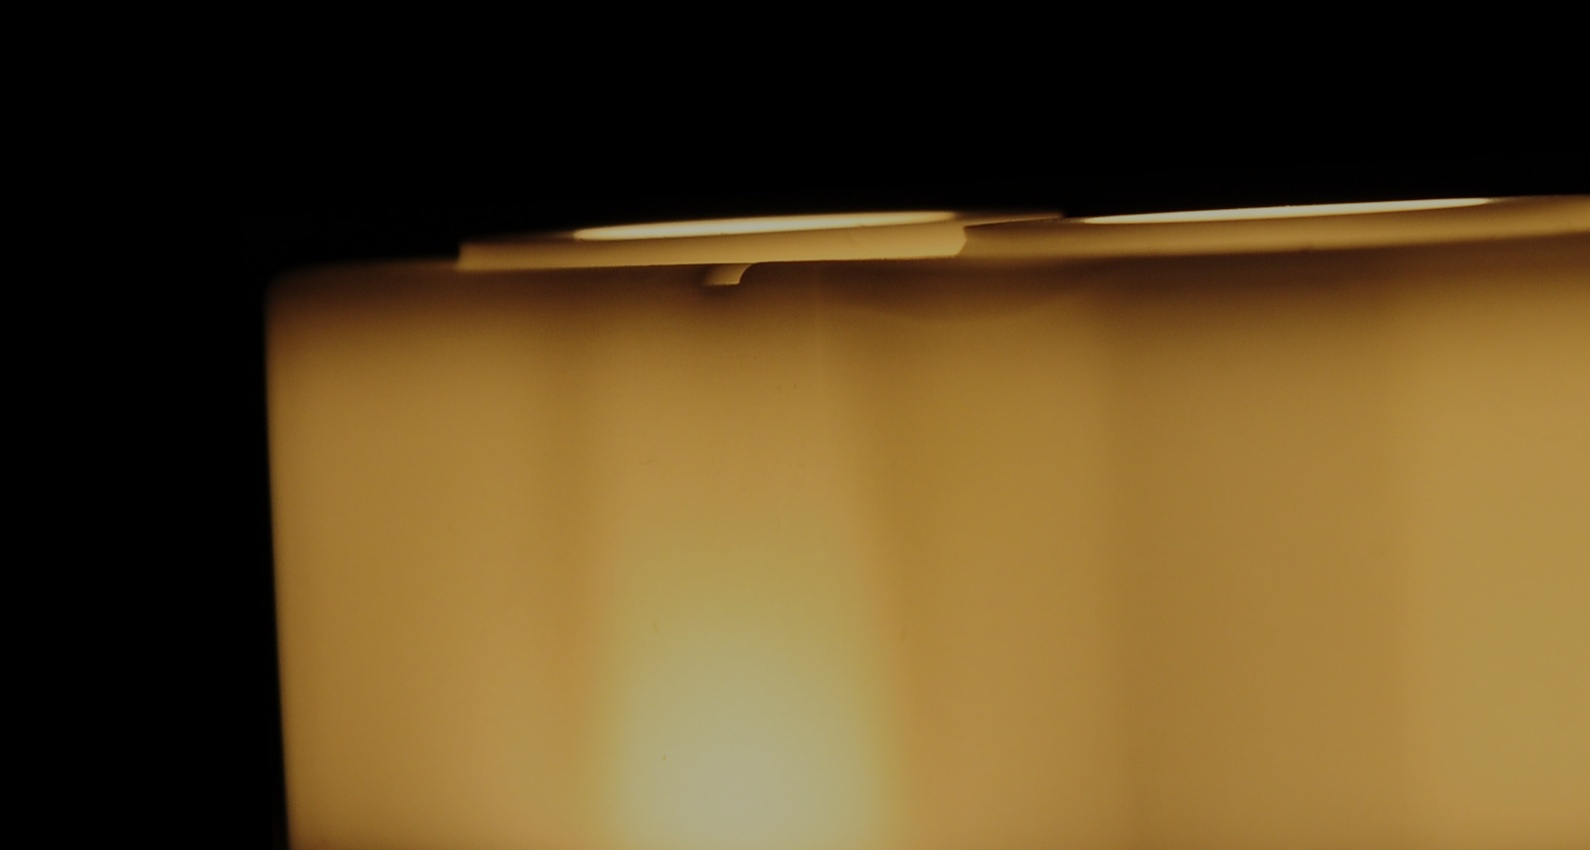flaw: (823, 284, 1084, 342)
